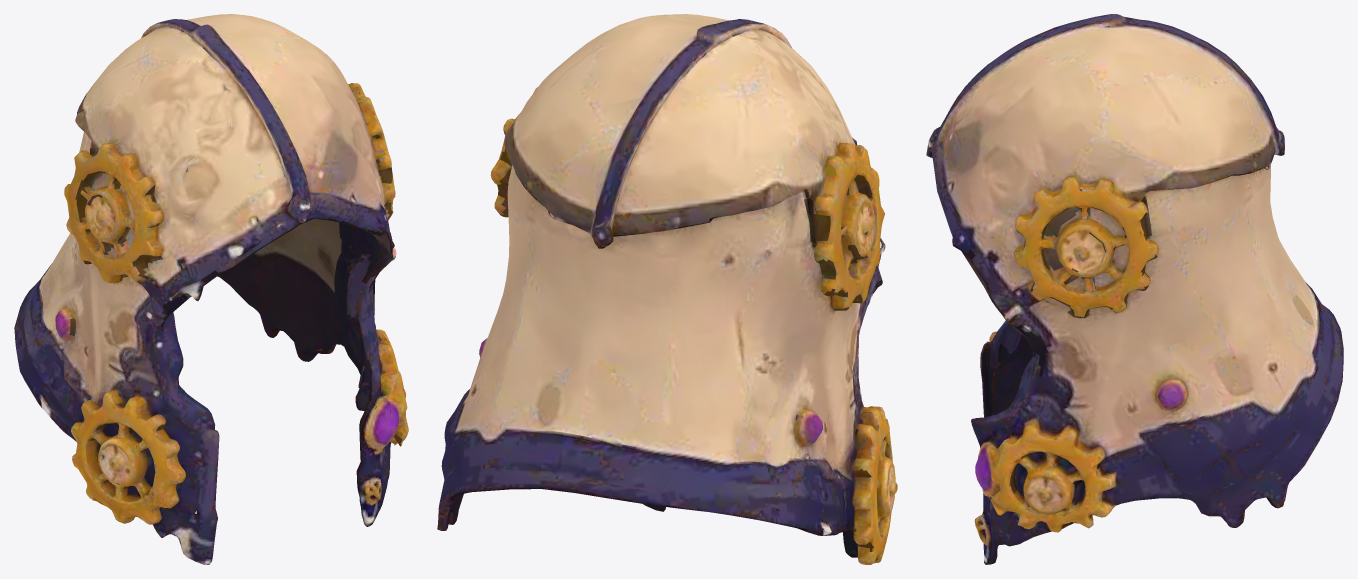
File: tempo-elmo.glb
The picture shows the model from 3 angles, left to right: view 1: azimuth 30°, elevation 25°; view 2: azimuth 150°, elevation 25°; view 3: azimuth 270°, elevation 25°; orthographic projection. The views are drawn at different scales.
Visible parts, largest first — view 1: tripo_node_e336c281-b526-43a8-8850-cc028bef2e0c; view 2: tripo_node_e336c281-b526-43a8-8850-cc028bef2e0c; view 3: tripo_node_e336c281-b526-43a8-8850-cc028bef2e0c.
Part boxes in pixels (x1,y1,x2,y2): tripo_node_e336c281-b526-43a8-8850-cc028bef2e0c: (14,14,408,564); tripo_node_e336c281-b526-43a8-8850-cc028bef2e0c: (437,14,897,564); tripo_node_e336c281-b526-43a8-8850-cc028bef2e0c: (926,14,1343,564).
Bounding box in the file's own units: 0.6587 × 0.9718 × 0.7402.
1 material, 1 textured.
